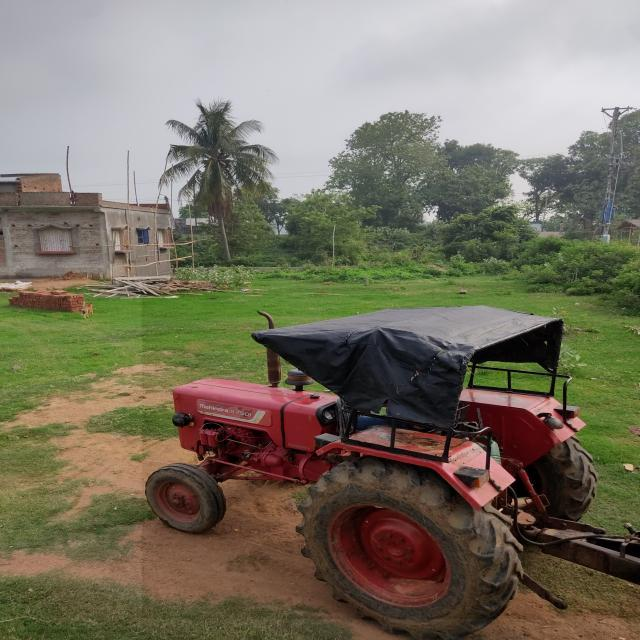Tractot: (142, 282, 640, 619)
